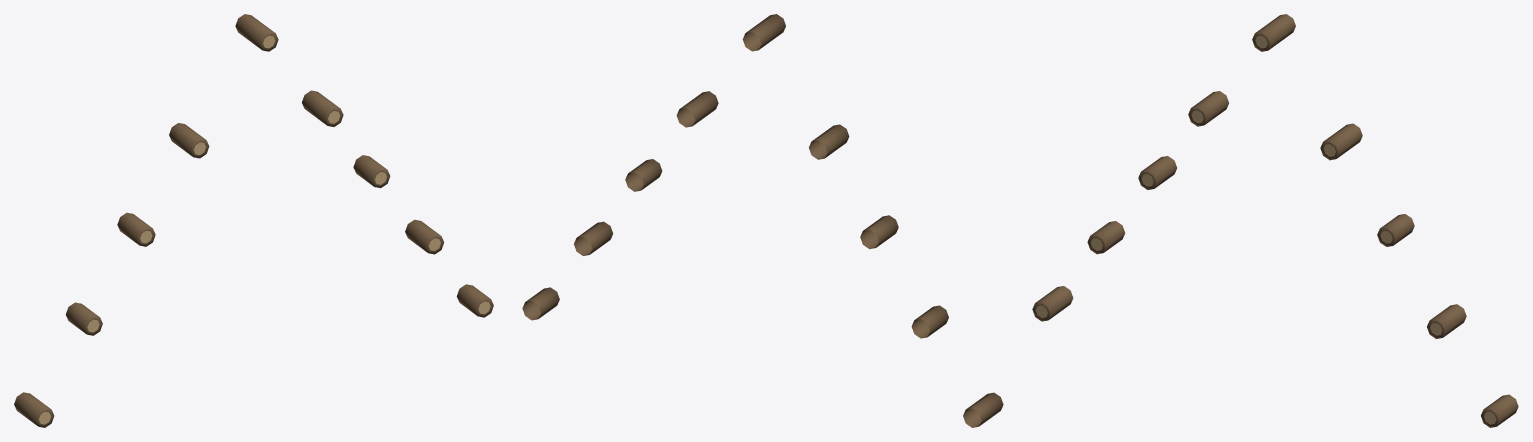
Rendered from rpgpp_ag_roof_support_01_6x5x3_end_01.fbx.
The picture shows the model from 3 angles, left to right: view 1: azimuth 30°, elevation 25°; view 2: azimuth 150°, elevation 25°; view 3: azimuth 330°, elevation 25°; orthographic projection.
Visible parts, largest first — view 1: rpgpp_ag_roof_support_01_6x5x3_end_01; view 2: rpgpp_ag_roof_support_01_6x5x3_end_01; view 3: rpgpp_ag_roof_support_01_6x5x3_end_01.
Part boxes in pixels (x1,y1,x2,y2): rpgpp_ag_roof_support_01_6x5x3_end_01: [14, 14, 493, 427]; rpgpp_ag_roof_support_01_6x5x3_end_01: [522, 14, 1003, 427]; rpgpp_ag_roof_support_01_6x5x3_end_01: [1032, 14, 1518, 427].
Bounding box in the file's own units: 6.26 × 4.46 × 0.578.
